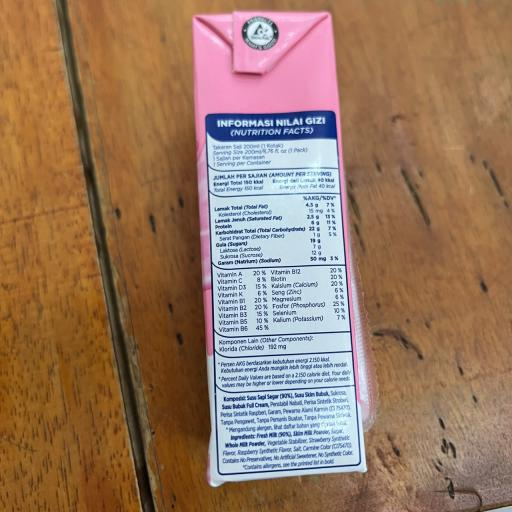Ultramilk Strawberry 200ml: (166, 0, 376, 493)
